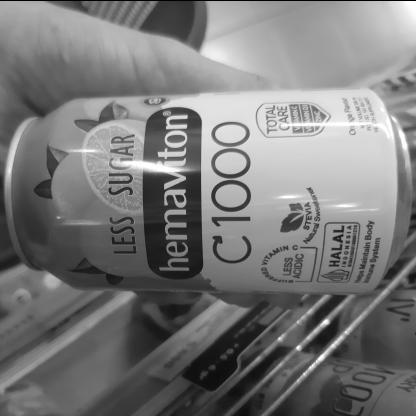alumunium_can: (0, 49, 416, 326)
